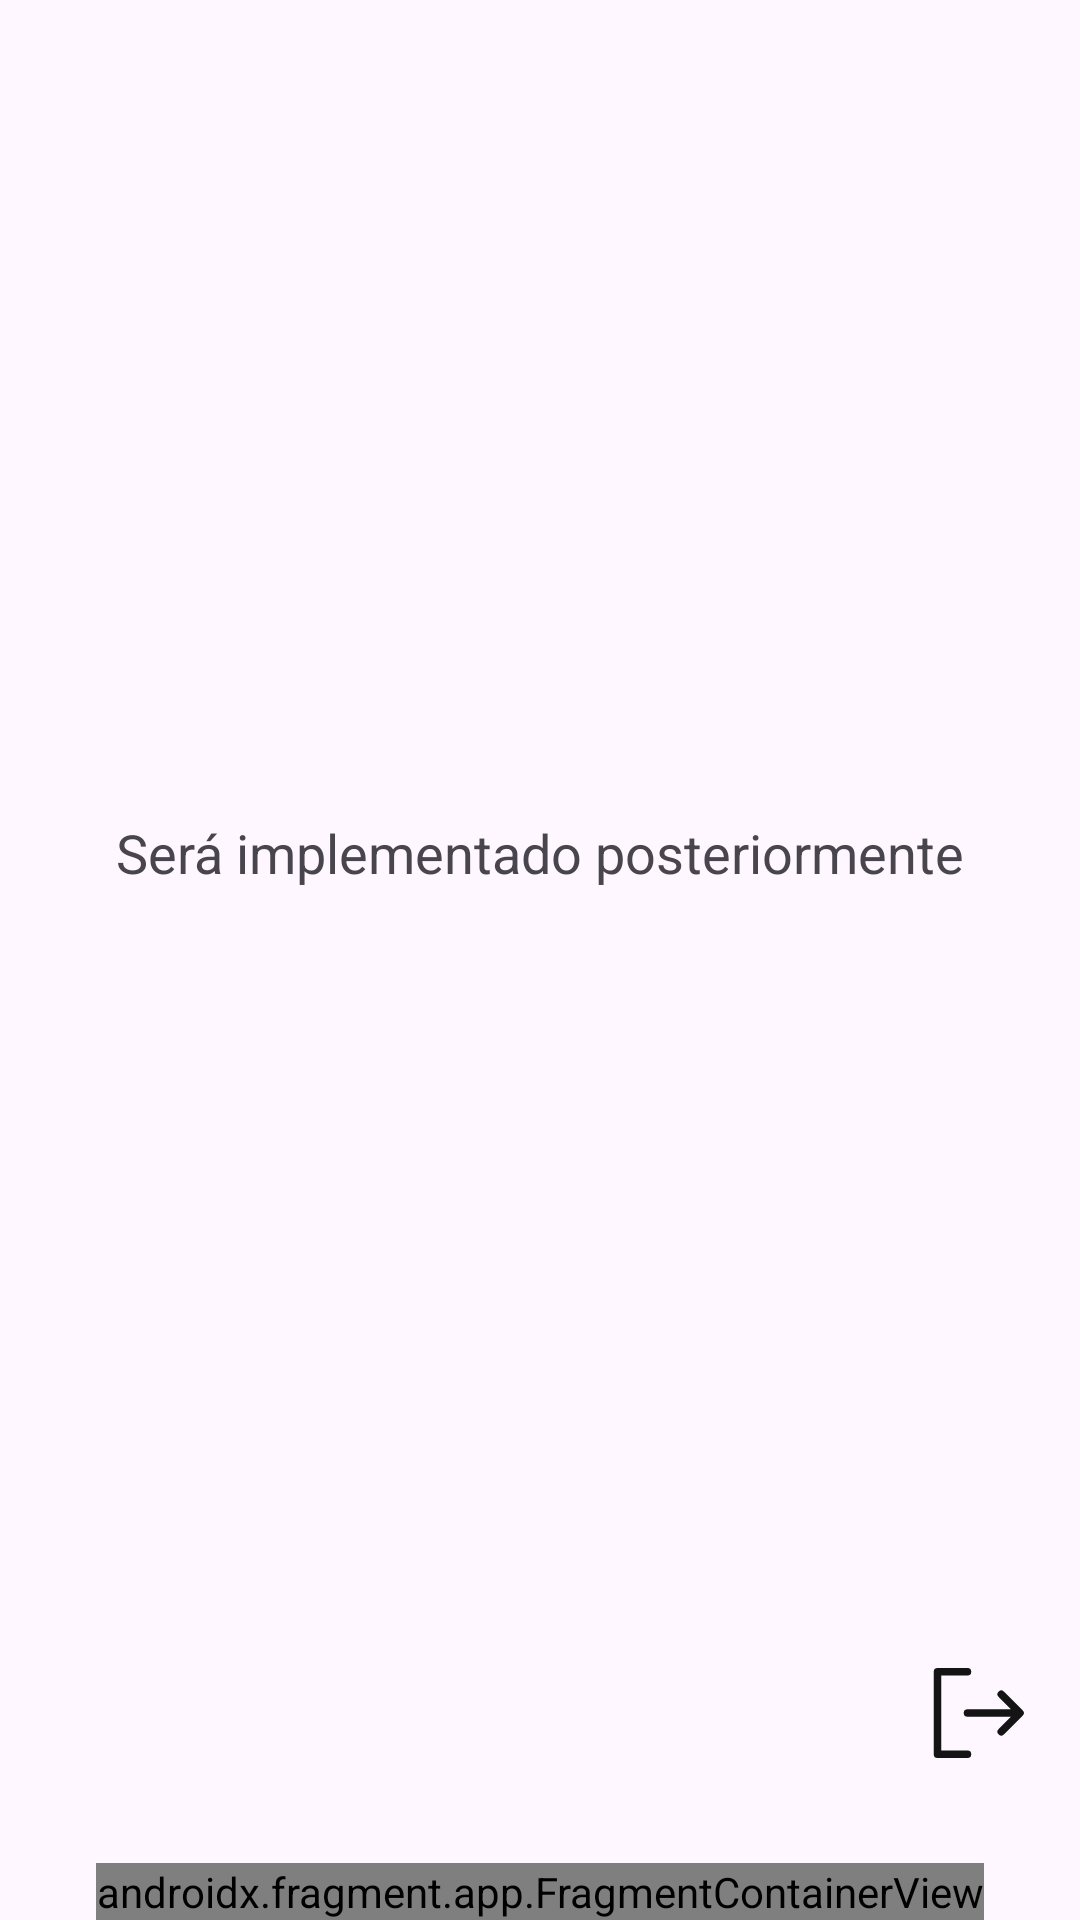

Locate icon controls on the screen. Image size 1080w x 1920h, boxes as (x1, y1, x2, y2).
sign out: (933, 1668, 1024, 1758)
